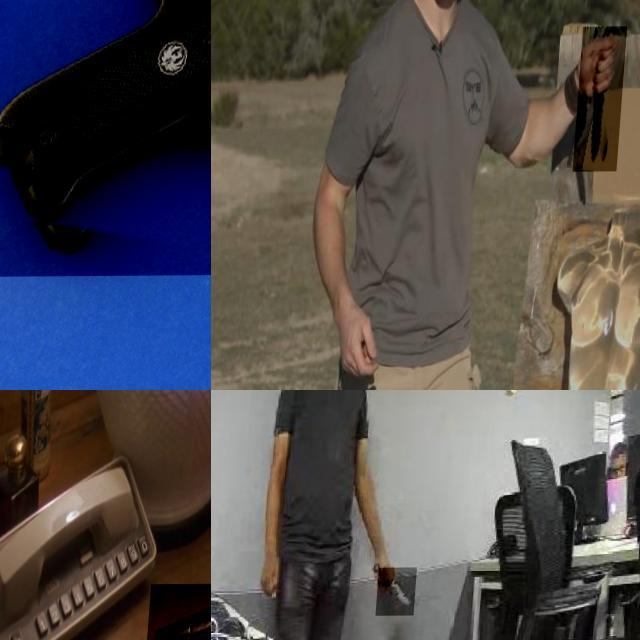-: (578, 28, 631, 172), (384, 568, 424, 616)
gun-knife-thesis - v11 Yolov5 augmented: (0, 0, 211, 276)
